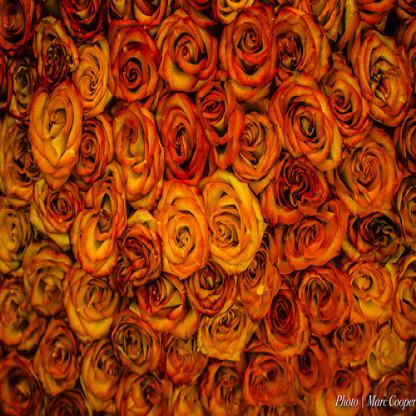Rose-Mawar: (2, 4, 415, 395)
